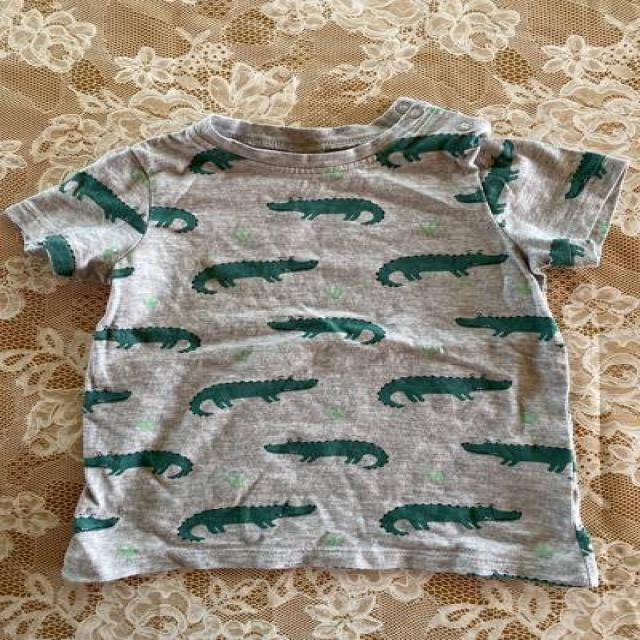Clothes -Biodegradable-: (12, 91, 631, 588)
